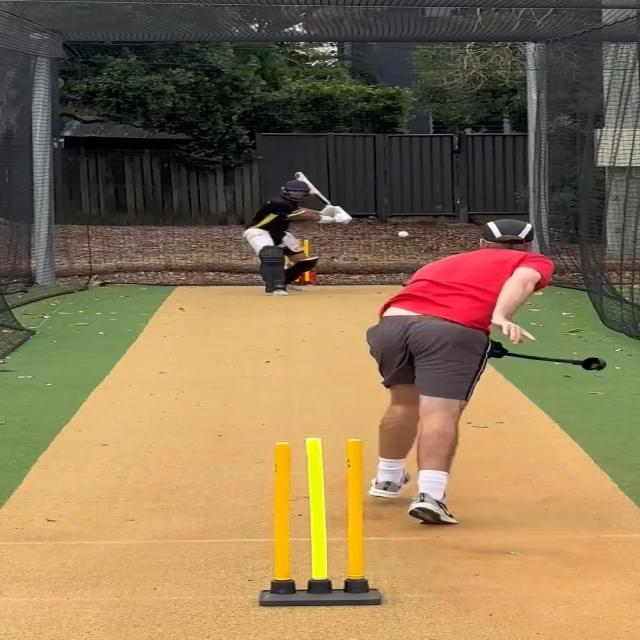ball: (395, 231, 409, 240)
stump: (258, 436, 382, 608)
